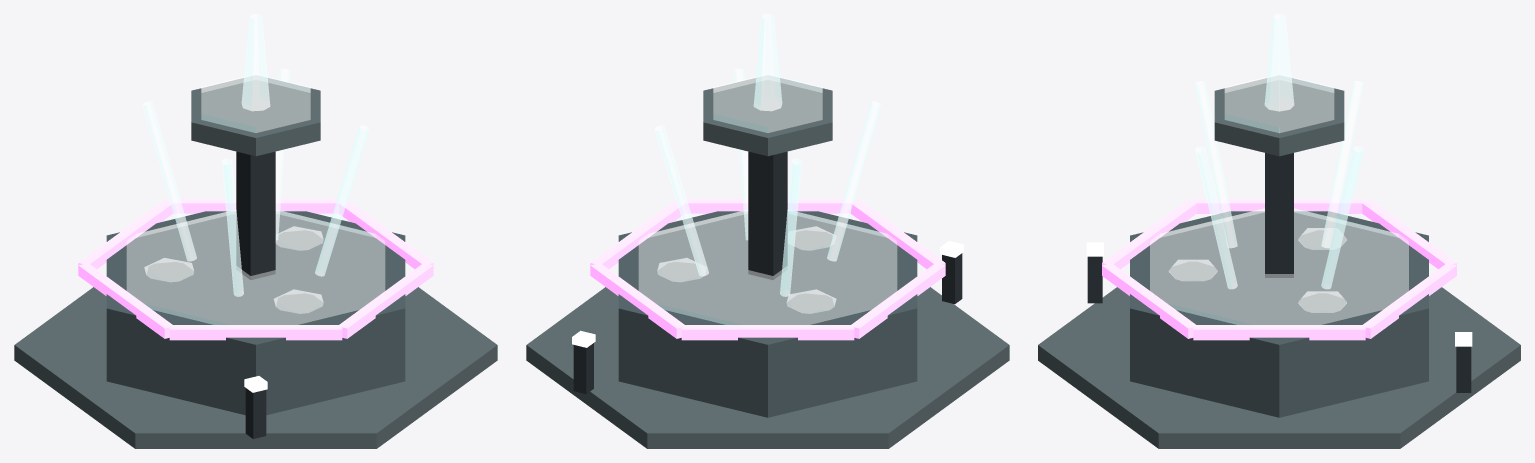
Rendered from synthwave-fountain.glb.
3 views of the same model, side by side, from view 1: azimuth 30°, elevation 25°; view 2: azimuth 150°, elevation 25°; view 3: azimuth 270°, elevation 25° (orthographic).
Parts seen in each view (by area): view 1: Basin, Fount_Body2, Fount_Water, Fount_NeonA, Fount_Frame, RK_Jet, RK_Arc1, RK_Arc3, RK_Arc2, RK_Ripple1, RK_Ripple2, RK_Ripple0 (+1 smaller); view 2: Basin, Fount_Body2, Fount_Water, Fount_NeonA, Fount_Frame, RK_Jet, RK_Arc2, RK_Arc0, RK_Arc1, RK_Ripple1, RK_Ripple0, RK_Ripple2 (+2 smaller); view 3: Basin, Fount_Body2, Fount_Water, Fount_NeonA, Fount_Frame, RK_Jet, RK_Arc1, RK_Arc2, RK_Arc0, RK_Arc3, RK_Ripple0, RK_Ripple2 (+2 smaller).
Part boxes in pixels (x1,y1,x2,y2): Basin: (106,211,405,415); Fount_Body2: (14,78,497,448); Fount_Water: (127,74,384,324); Fount_NeonA: (78,198,433,340); Fount_Frame: (236,151,275,438); RK_Jet: (242,14,269,110); RK_Arc1: (143,101,196,261); RK_Arc3: (315,125,369,276); RK_Arc2: (222,158,243,296); RK_Ripple1: (144,258,193,281); RK_Ripple2: (274,289,323,313); RK_Ripple0: (276,226,323,250); Basin: (618,211,917,417); Fount_Body2: (526,78,1009,448); Fount_Water: (639,74,896,324); Fount_NeonA: (590,198,945,340); Fount_Frame: (573,151,962,394); RK_Jet: (754,14,781,110); RK_Arc2: (827,101,880,261); RK_Arc0: (654,125,708,276); RK_Arc1: (780,158,801,296); RK_Ripple1: (787,289,836,313); RK_Ripple0: (657,258,701,281); RK_Ripple2: (795,226,833,250); Basin: (1130,211,1428,417); Fount_Body2: (1038,78,1520,448); Fount_Water: (1150,74,1408,324); Fount_NeonA: (1102,198,1456,340); Fount_Frame: (1087,153,1471,392); RK_Jet: (1265,14,1293,111); RK_Arc1: (1321,81,1363,248); RK_Arc2: (1195,81,1237,248); RK_Arc0: (1321,146,1363,289); RK_Arc3: (1195,146,1237,289); RK_Ripple0: (1298,291,1346,312); RK_Ripple2: (1169,260,1217,280).
Bounding box in the file's own units: 0.7275 × 0.66 × 0.84.
